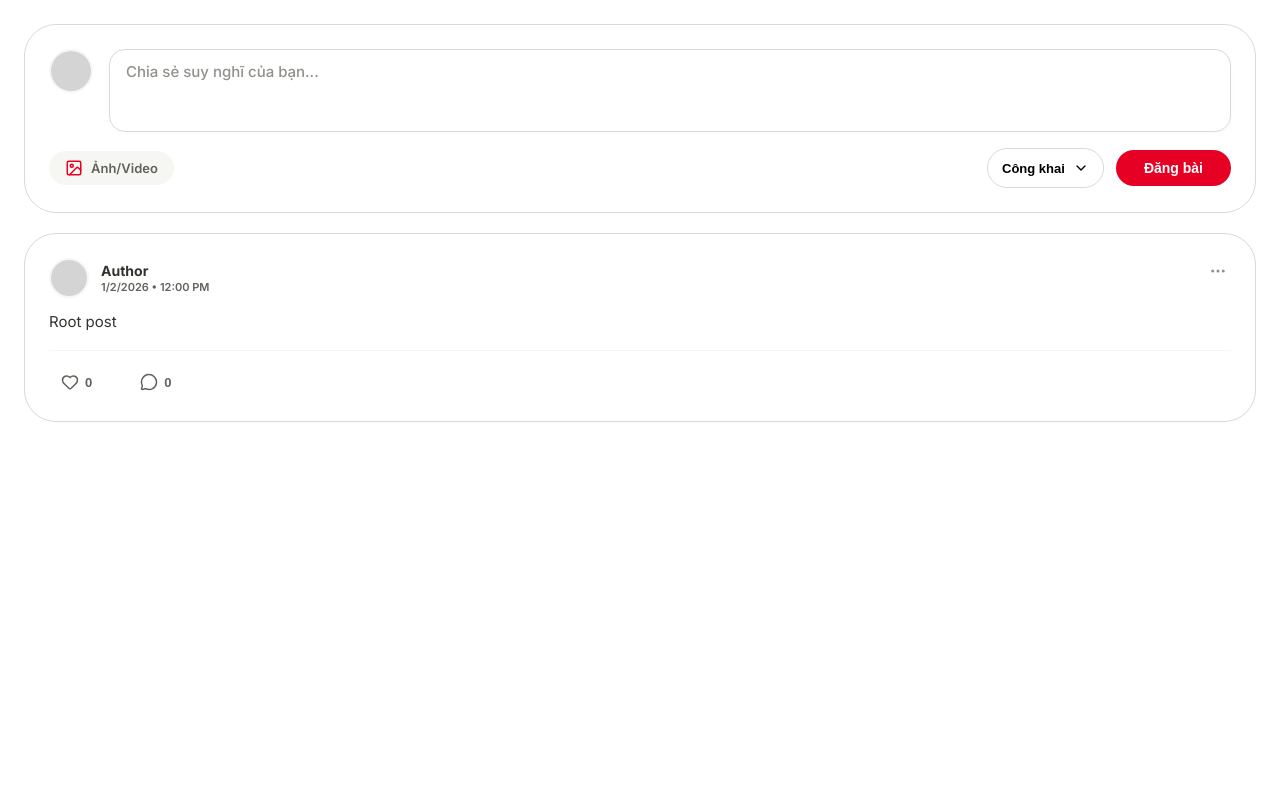
Test case: Feed — comments modal › openComments_on_fetch_rejection_sets_empty_comments
This screenshot has width=1280, height=800.
Expected: the text box with id "feed-post-input" is shown, [109,49,1231,132]
What coordinates should you click on to do the following:
click the 2nd button "0"
I would click on:
 (156, 382)
Its box is [128,367,183,397].
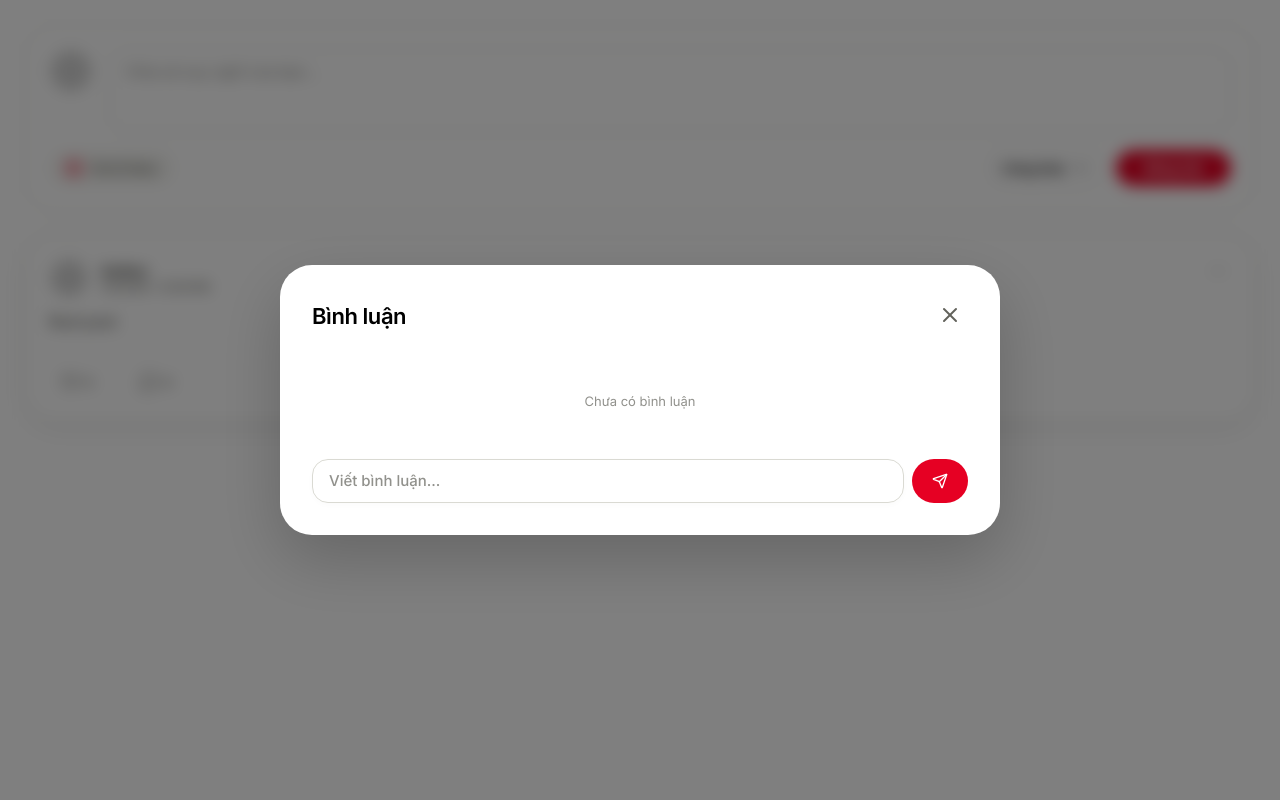
Result: the text "Chưa có bình luận" is shown at [584,393,696,409]
